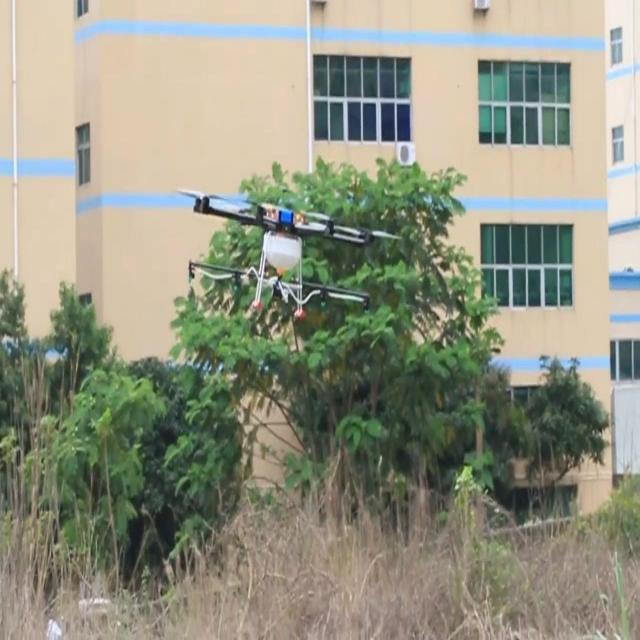UAV: (179, 191, 401, 320)
